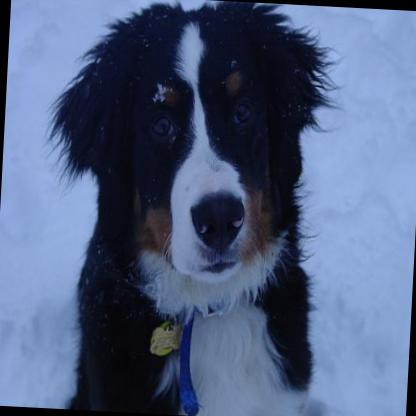Bernese_mountain_dog: (32, 0, 331, 416)
